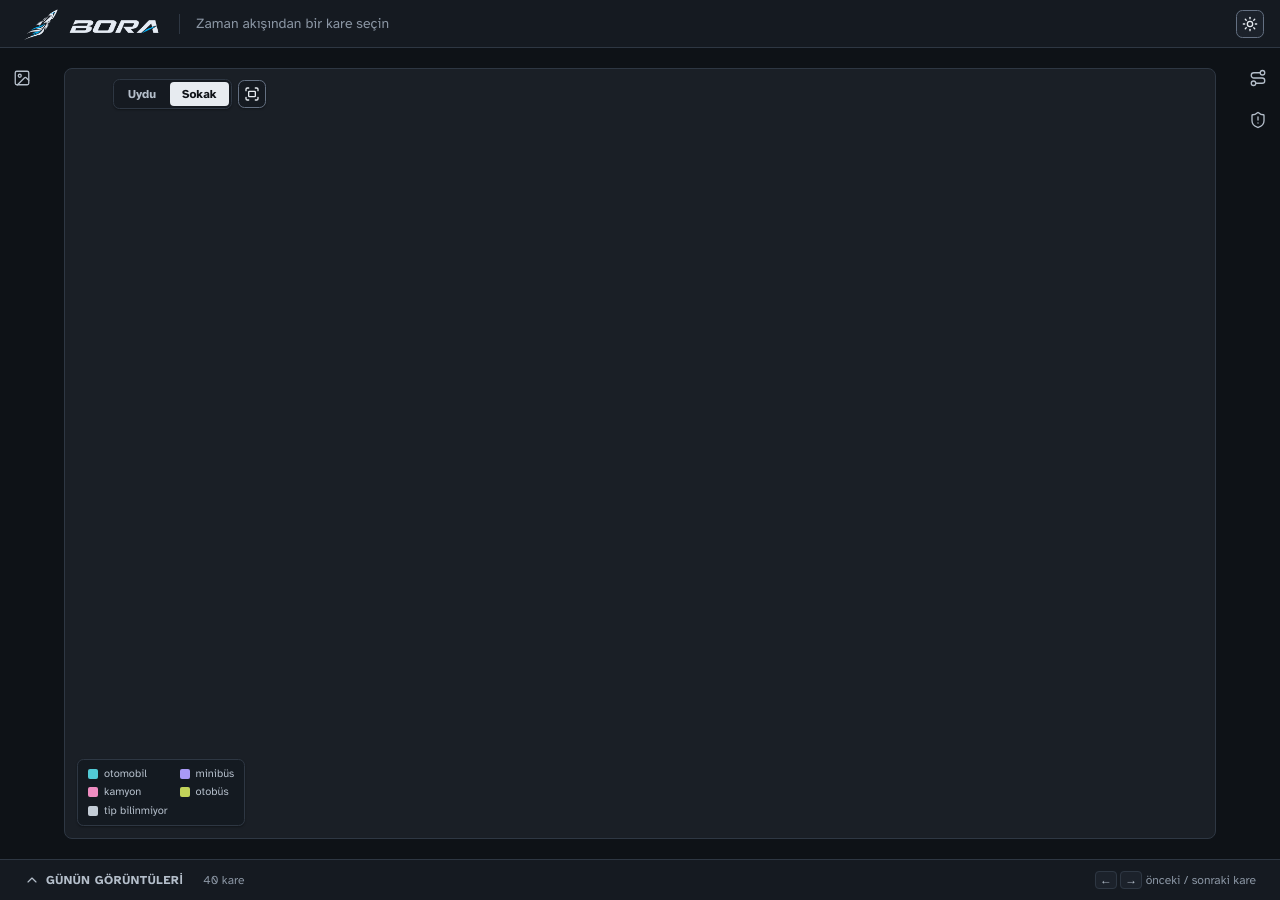
it: Günün görüntüleri › başlangıçta kapalı: ince çubukta başlık ve kare sayısı; chevron açar ve kapatır
Check: the text "40 kare" is shown, box [203, 872, 245, 888]
Click the button "Günün görüntüleri" at (104, 880), box [16, 868, 191, 892]
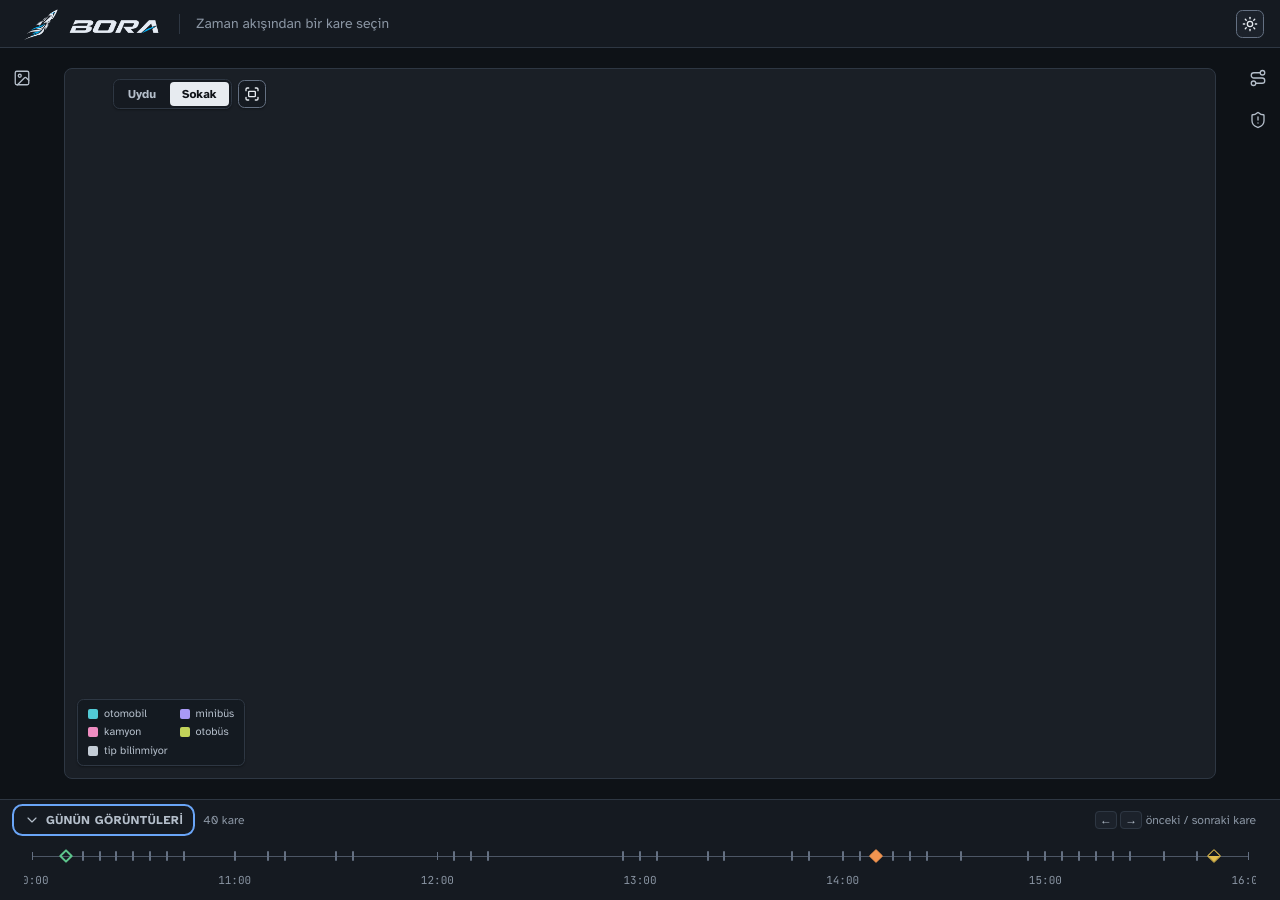
Check: the list named "Görüntüler, çekim anına göre" is shown, box [32, 840, 1248, 872]
Check: the button "Günün görüntüleri" is expanded
Click the button "Günün görüntüleri" at (104, 820), box [16, 808, 191, 832]
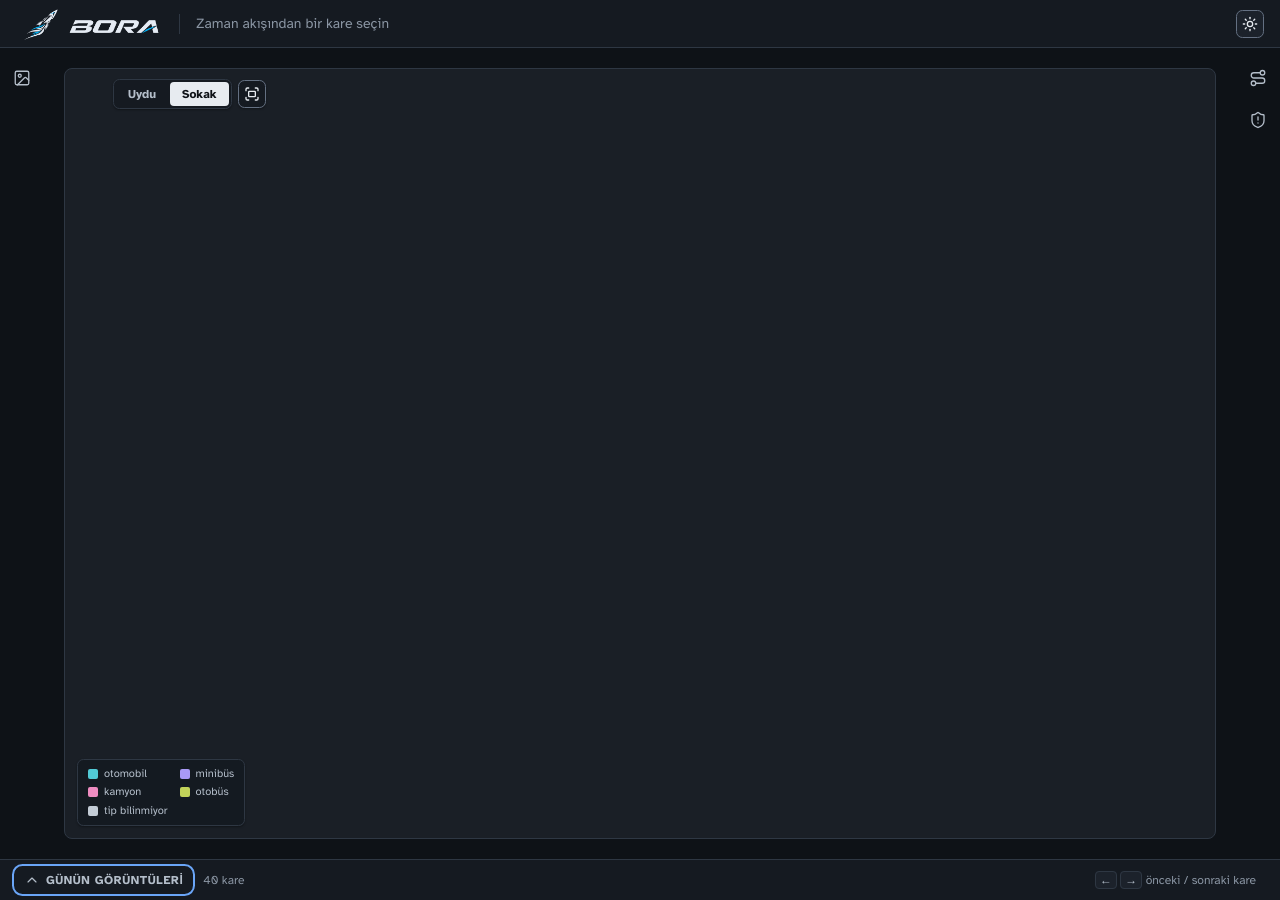
Check: the button "Günün görüntüleri" is collapsed, box [16, 868, 191, 892]
